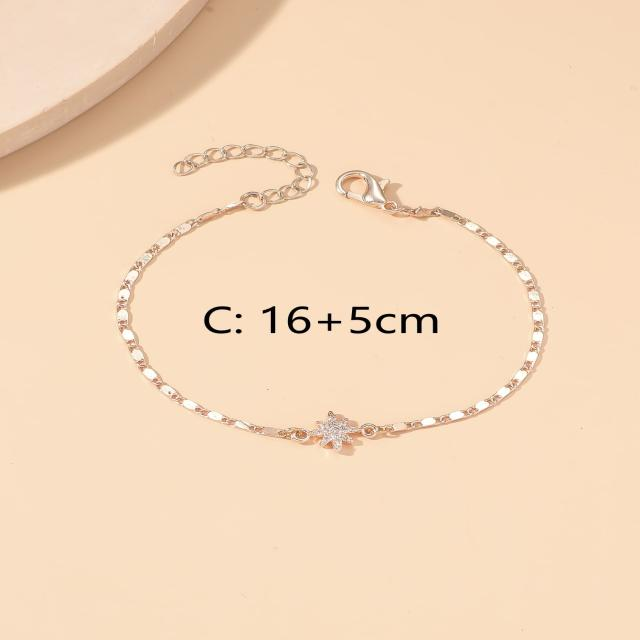bracelet: (118, 72, 640, 473)
